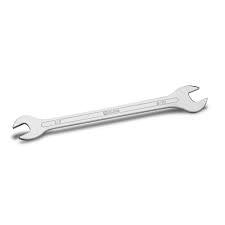wrench: (10, 83, 208, 141)
